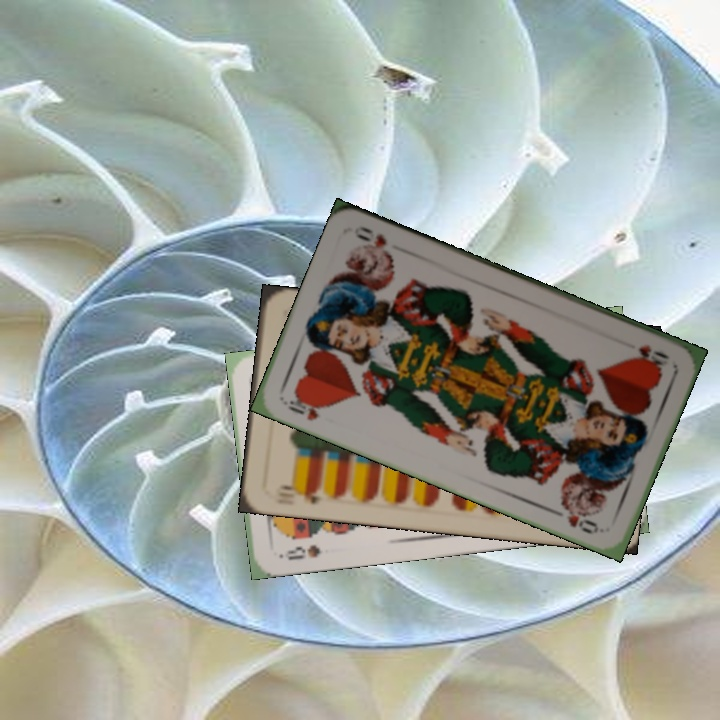E10: (275, 481, 323, 506)
HO: (280, 389, 328, 424), (633, 340, 673, 369)
S8: (275, 540, 323, 563)
